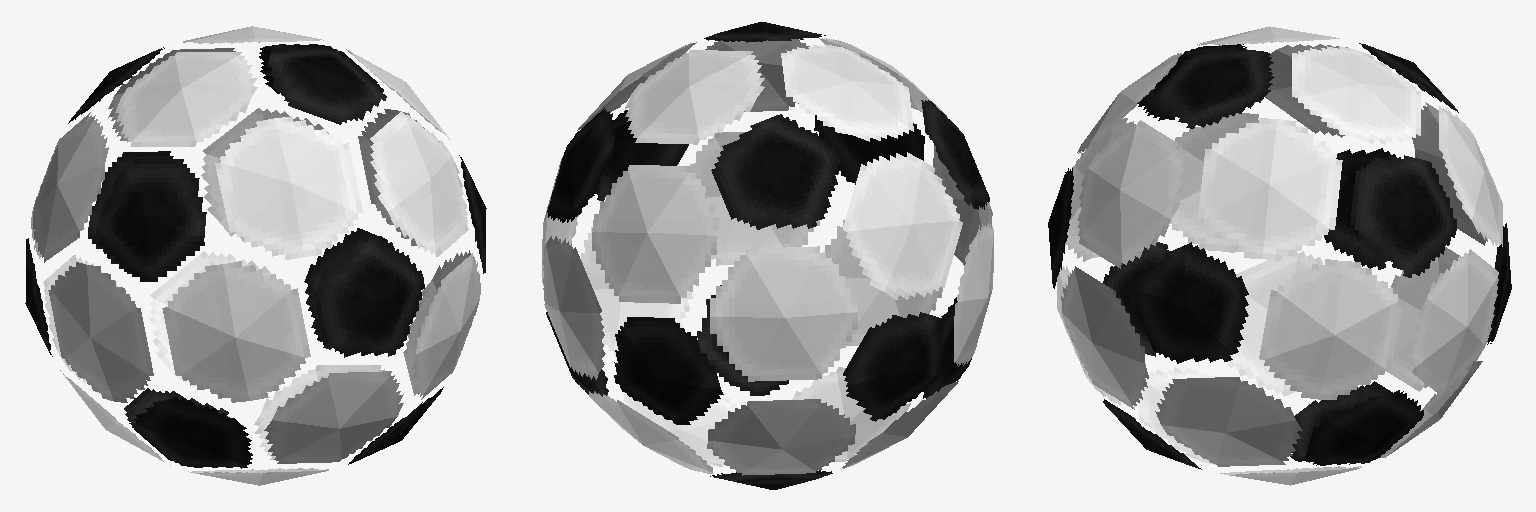
3 views of the same model, side by side, from view 1: azimuth 30°, elevation 25°; view 2: azimuth 150°, elevation 25°; view 3: azimuth 270°, elevation 25° (orthographic).
Bounding box in the file's own units: 2.15 × 2.18 × 2.18.
Materials: 1 (1 with a texture image).